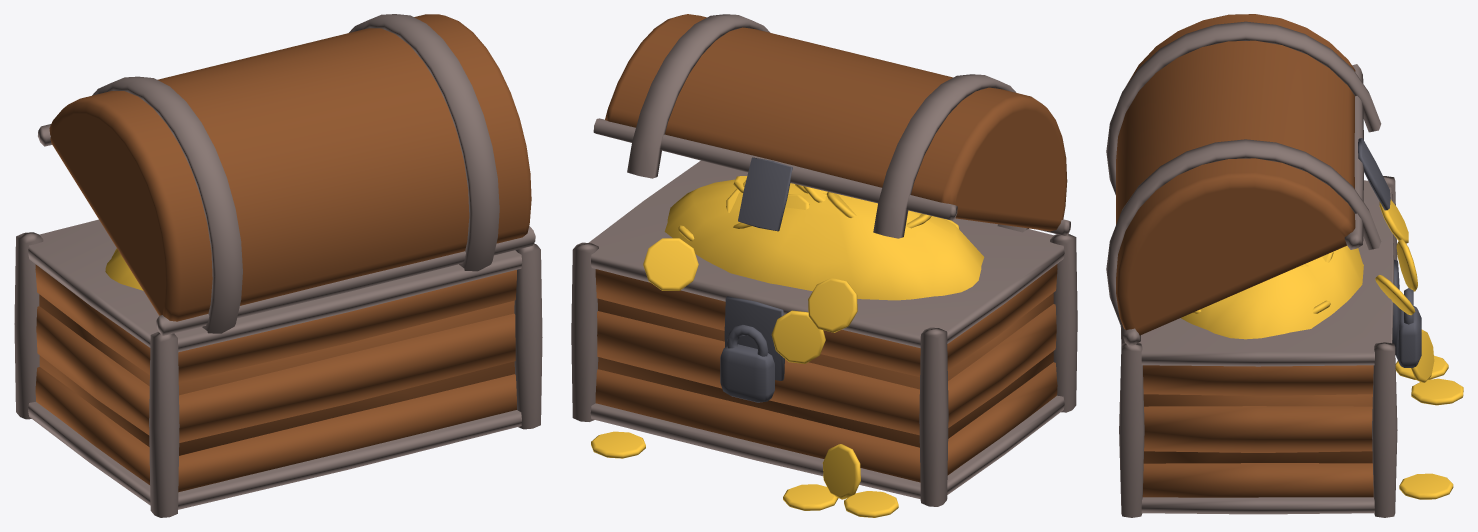
The model's file is SharkBaitChest.obj.
3 views of the same model, side by side, from view 1: azimuth 30°, elevation 25°; view 2: azimuth 150°, elevation 25°; view 3: azimuth 270°, elevation 25° (orthographic). The views are drawn at different scales.
Visible parts, largest first — view 1: Wood, Trim, Gold; view 2: Wood, Trim, Gold, Lock; view 3: Wood, Trim, Gold, Lock.
Part boxes in pixels (left/top/right/bottom): Wood: left=35, top=14, right=531, bottom=492; Trim: left=14, top=14, right=542, bottom=517; Gold: left=105, top=248, right=143, bottom=290; Wood: left=595, top=14, right=1067, bottom=482; Trim: left=571, top=14, right=1077, bottom=506; Gold: left=591, top=176, right=984, bottom=517; Lock: left=720, top=157, right=792, bottom=402; Wood: left=1116, top=14, right=1373, bottom=497; Trim: left=1106, top=21, right=1397, bottom=517; Gold: left=1181, top=199, right=1463, bottom=499; Lock: left=1358, top=138, right=1421, bottom=367.
Size of the model in its own units: 2.62 by 2.4 by 2.23.
